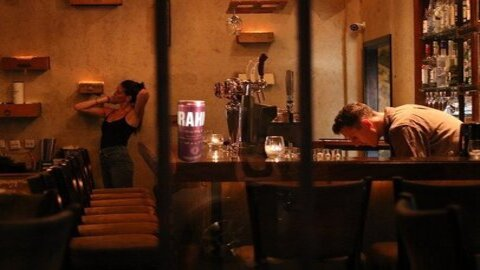duplo_malte: (173, 94, 210, 168)
